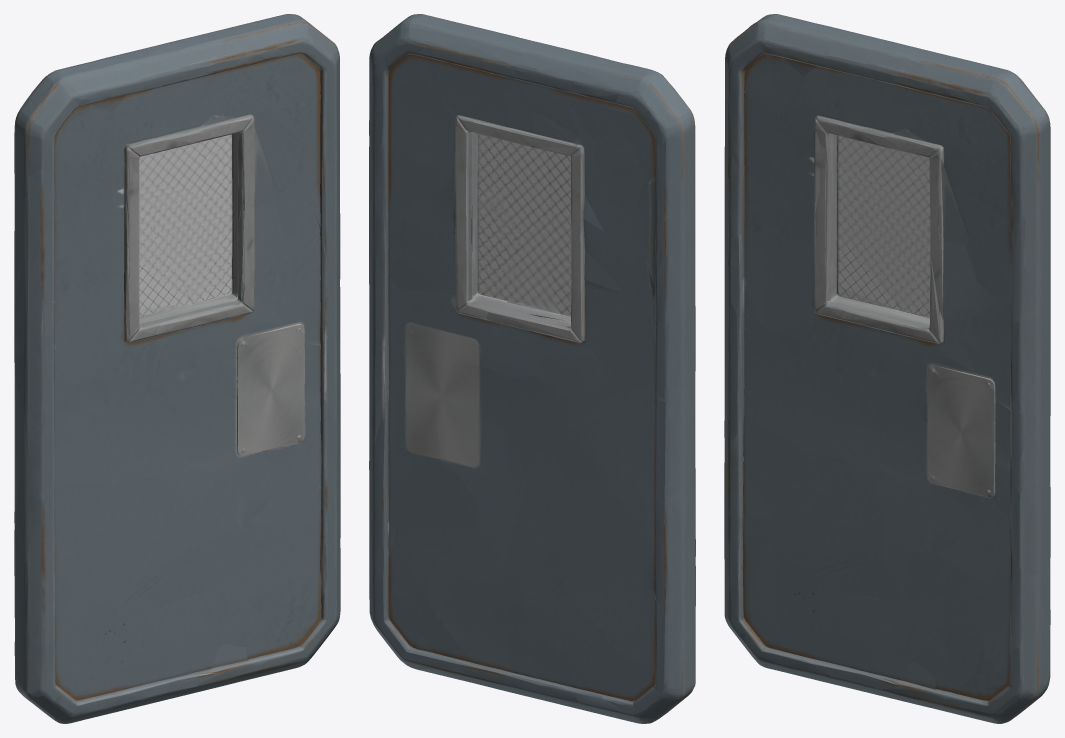
Rendered from porta_servizio.glb.
The picture shows the model from 3 angles, left to right: view 1: azimuth 30°, elevation 25°; view 2: azimuth 150°, elevation 25°; view 3: azimuth 330°, elevation 25°; orthographic projection.
Visible parts, largest first — view 1: Mesh_0; view 2: Mesh_0; view 3: Mesh_0.
Part boxes in pixels (x1,y1,x2,y2): Mesh_0: [14, 14, 340, 723]; Mesh_0: [369, 14, 695, 723]; Mesh_0: [724, 14, 1050, 723].
Bounding box in the file's own units: 0.971 × 1.9 × 0.1385.
Materials: 1 (1 with a texture image).
